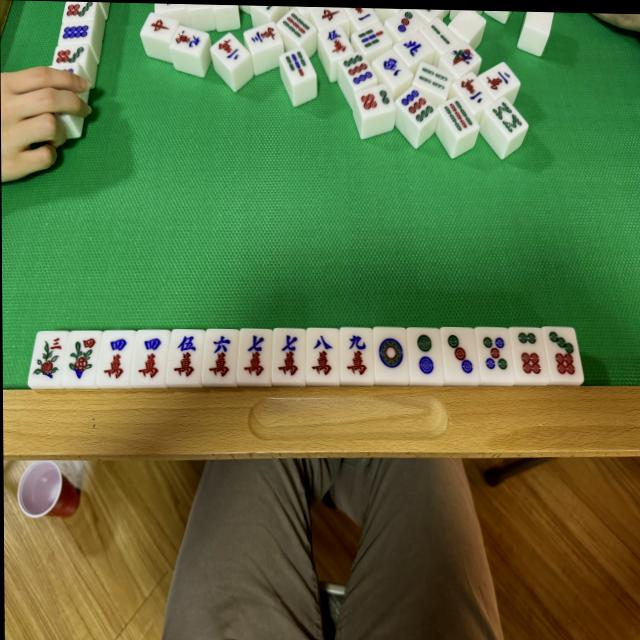ff3: (31, 333, 65, 386)
ff4: (68, 334, 98, 385)
m4: (103, 333, 132, 382), (137, 333, 165, 381)
m5: (173, 334, 200, 380)
m6: (208, 334, 235, 380)
m7: (242, 332, 270, 380), (277, 332, 303, 380)
m8: (309, 332, 340, 380)
m9: (342, 331, 372, 379)
t1: (376, 330, 407, 376)
t2: (413, 332, 441, 379)
t3: (445, 331, 477, 379)
t5: (482, 333, 511, 377)
t6: (516, 331, 547, 380)
t7: (547, 330, 580, 379)
